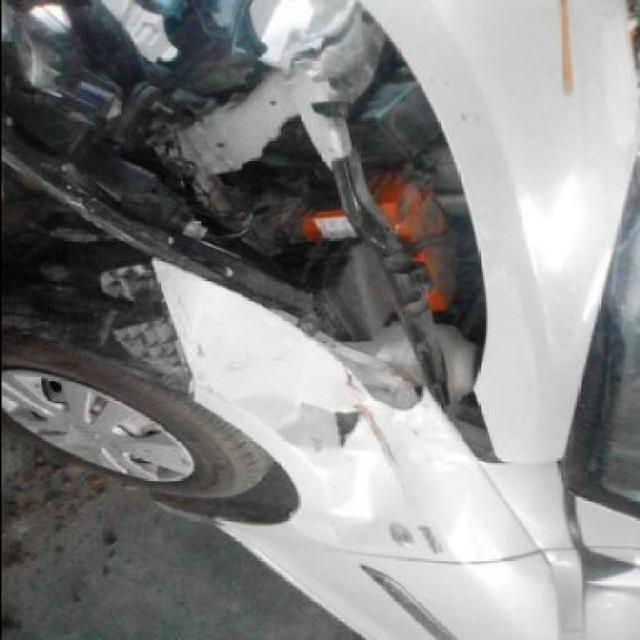damage: (0, 1, 502, 460), (295, 435, 473, 558), (266, 393, 362, 459), (343, 396, 409, 488)
